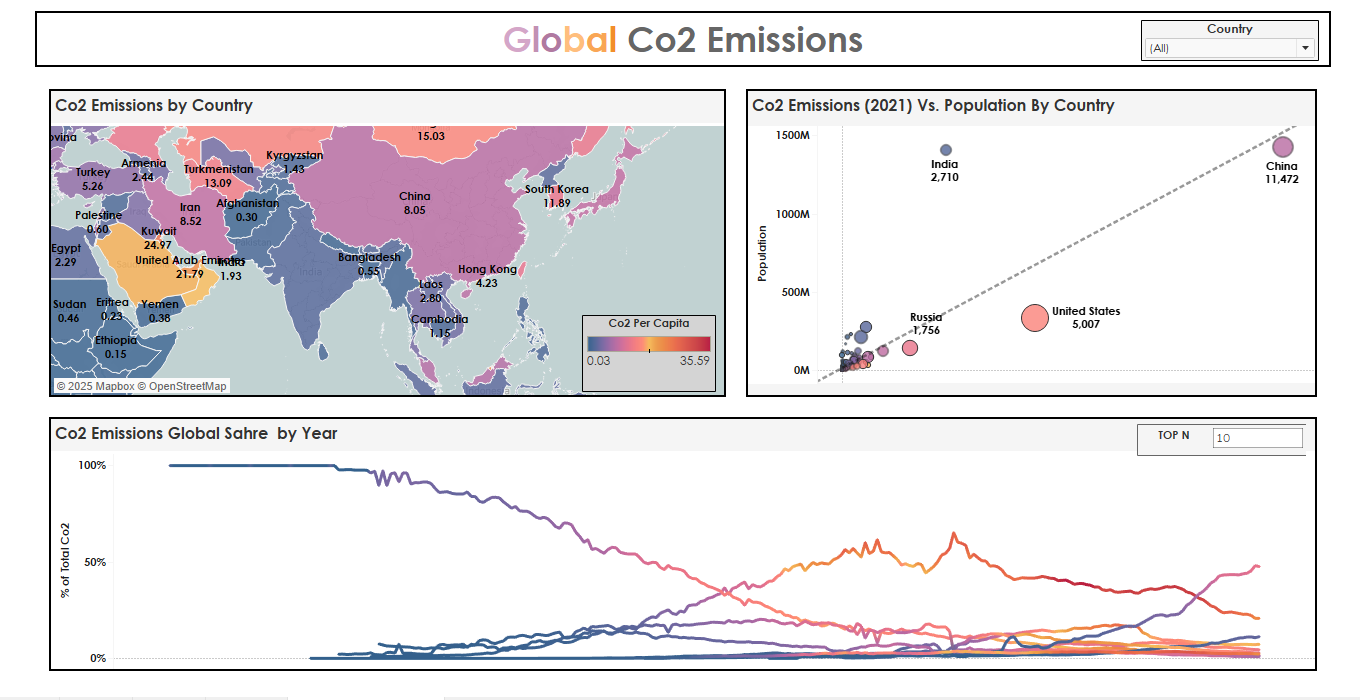

Layout of this report page (visuals, bound fields, positions):
{"tool":"tableau","page":{"name":"Global CO2 Emissions","canvas":[1000,1000],"units":"permille","ordinal":0},"visuals":[{"type":"filter","title":"Map Chart","param":"[federated.11sft0s1nm0w3e1471fnu0l6ekf6].[none:Country (copy)_115066976013066240","box":[798.2,13.4,145.5,84]},{"type":"text","box":[7.1,15.3,985.7,91.6]},{"type":"worksheet","title":"Map Chart","mark":"Automatic","box":[14.3,122.1,530.4,462.1]},{"type":"worksheet","title":"Scatter Plot","mark":"Circle","rows":["population"],"cols":["co2"],"box":[544.6,122.1,441.1,462.1]},{"type":"legend","title":"Scatter Plot","param":"[federated.11sft0s1nm0w3e1471fnu0l6ekf6].[sum:co2_per_capita:qk]","box":[442.9,484.7,92.9,85.9]},{"type":"worksheet","title":"Line Chart","mark":"Automatic","cols":["year"],"box":[14.3,584.2,971.4,385.2]},{"type":"parameter","param":"[Parameters].[Parameter 1]","box":[848.5,625.9,128.7,48.1]}]}

Visuals, with their boxes on the dashboard's canvas, which has no fixed pixel size, in thousandths of its width and height (x1, y1, x2, y2). These are canvas units, not pixel positions in the 1360x700 screenshot, which may show the page scaled, cropped or inside an application window:
"Map Chart" filter: Rect(798, 13, 944, 97)
text: Rect(7, 15, 993, 107)
"Map Chart" worksheet: Rect(14, 122, 545, 584)
"Scatter Plot" worksheet (Circle marks): Rect(545, 122, 986, 584)
"Scatter Plot" legend: Rect(443, 485, 536, 571)
"Line Chart" worksheet: Rect(14, 584, 986, 969)
parameter: Rect(848, 626, 977, 674)
